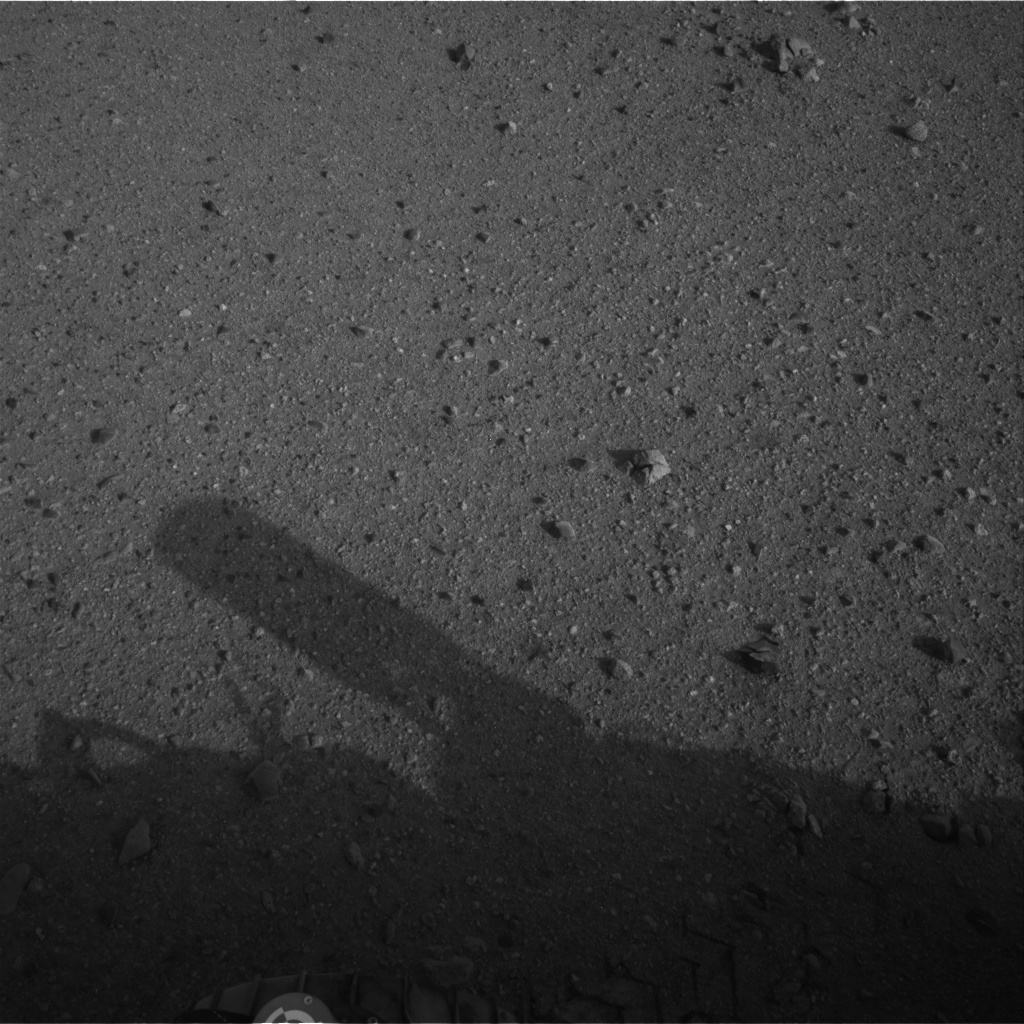soil: (10, 13, 1014, 1019)
